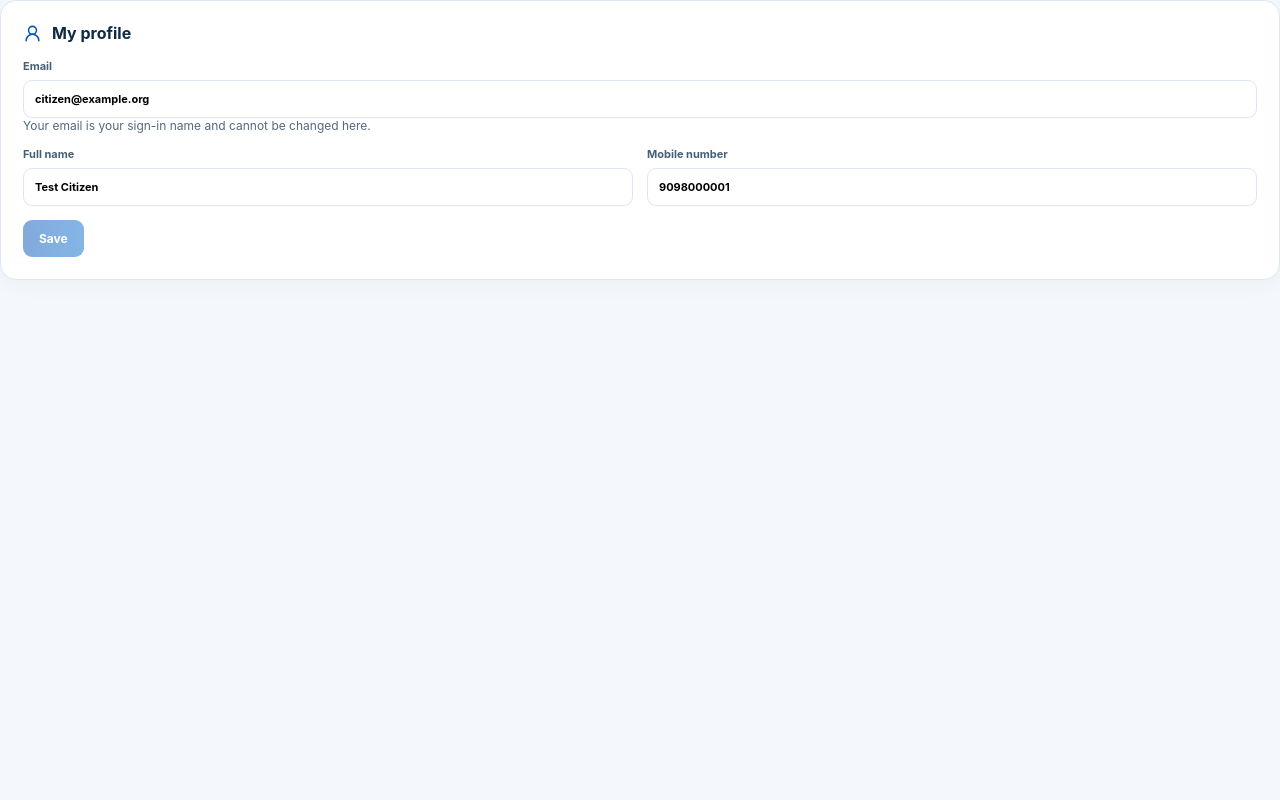
My profile › shows the server's message when the mobile number is taken
Replace the text in the field showing "9098000001" with "9098000002" at (952, 187), box x1=647 y1=168 x2=1257 y2=206
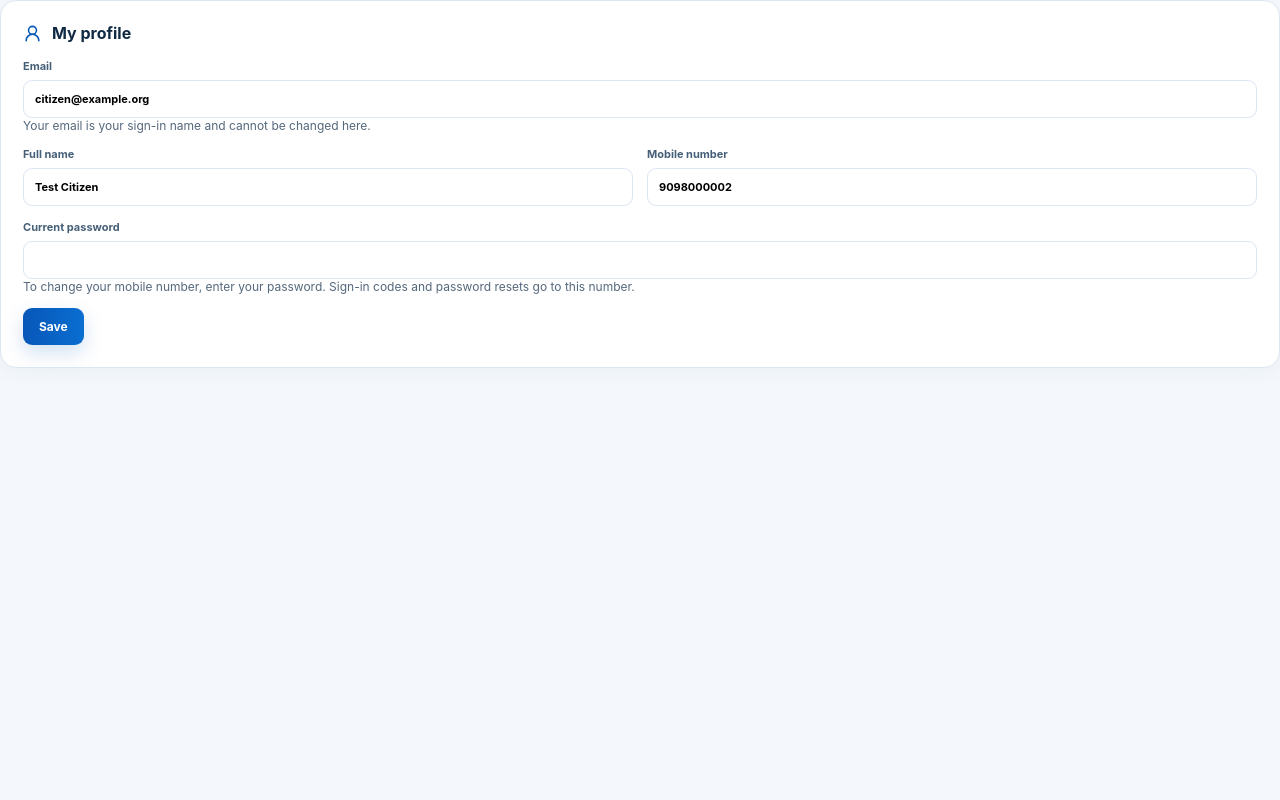
Type "my-password" into the password field labelled "Current password" at (640, 260), box x1=23 y1=241 x2=1257 y2=279
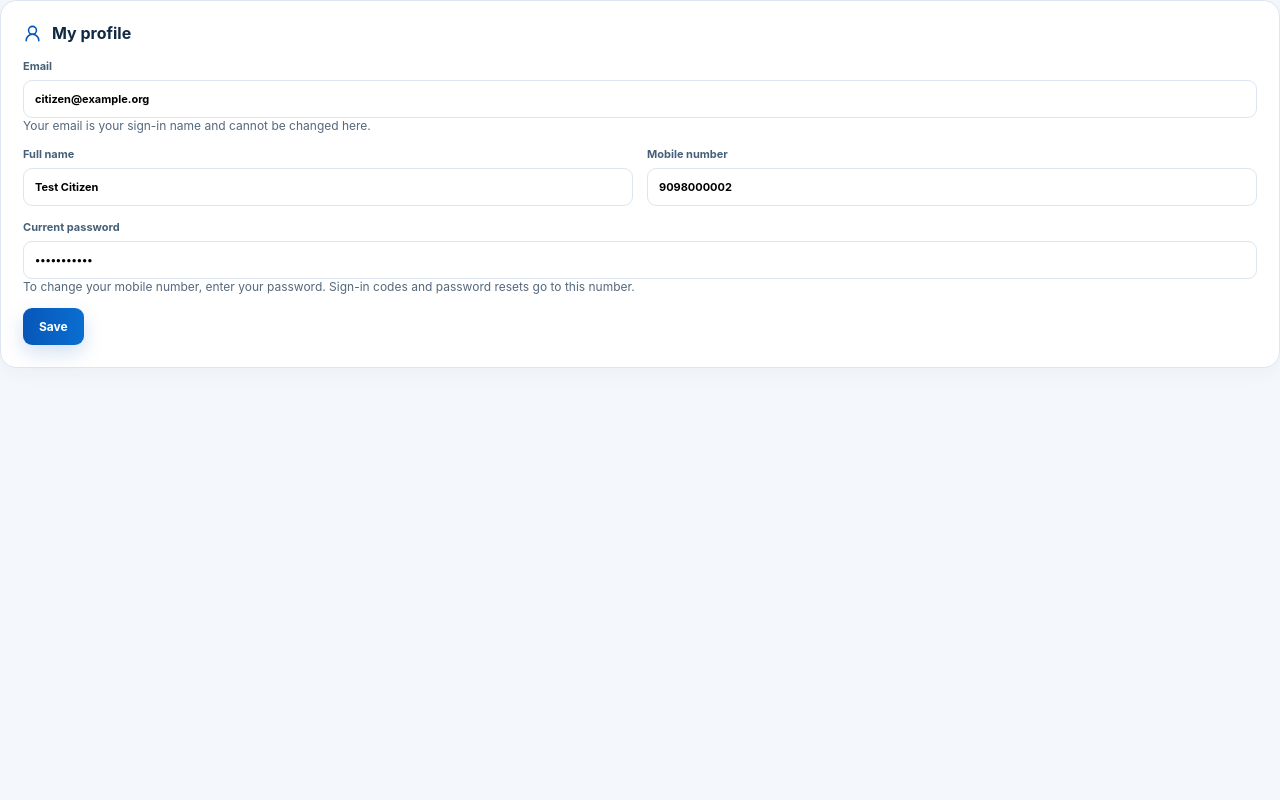
Click the button "Save" at (53, 326), box x1=23 y1=308 x2=84 y2=345
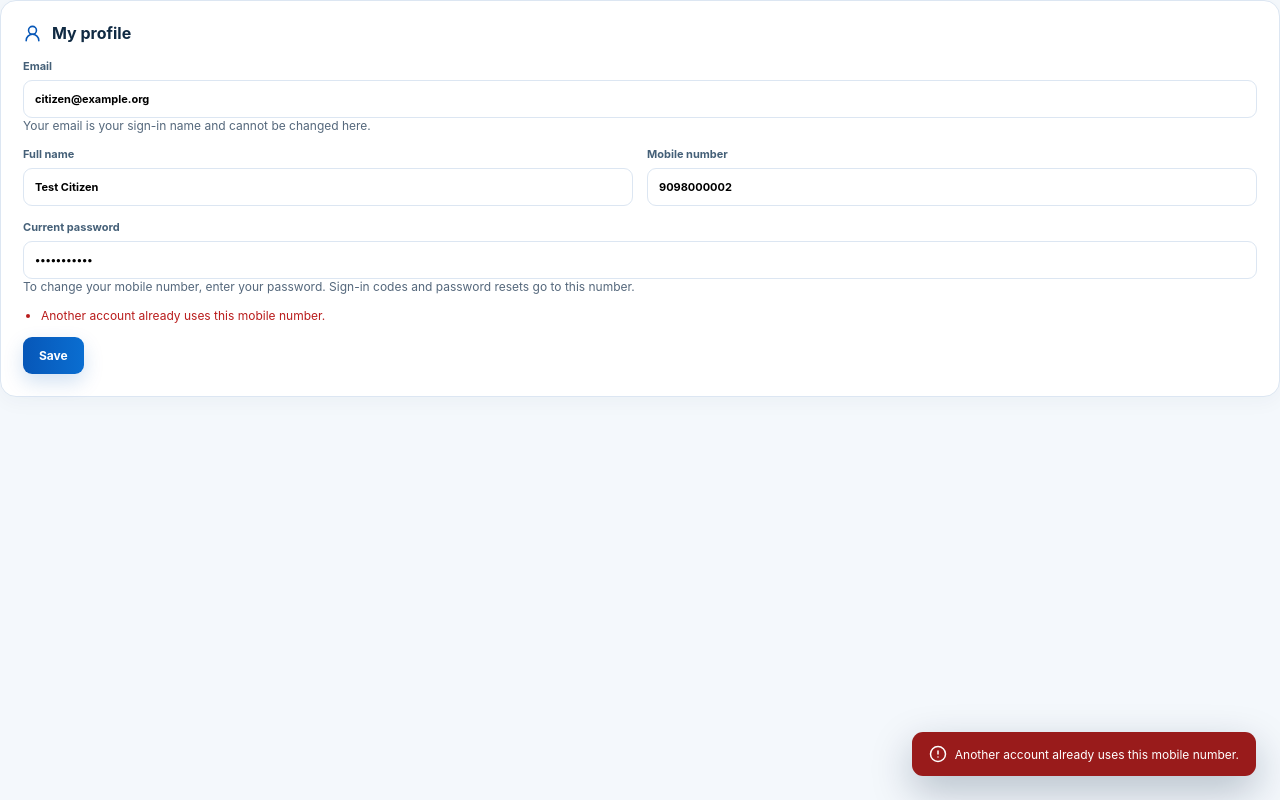
expect the list item "Another account already uses this mobile number." is shown: met, box x1=41 y1=308 x2=325 y2=323
